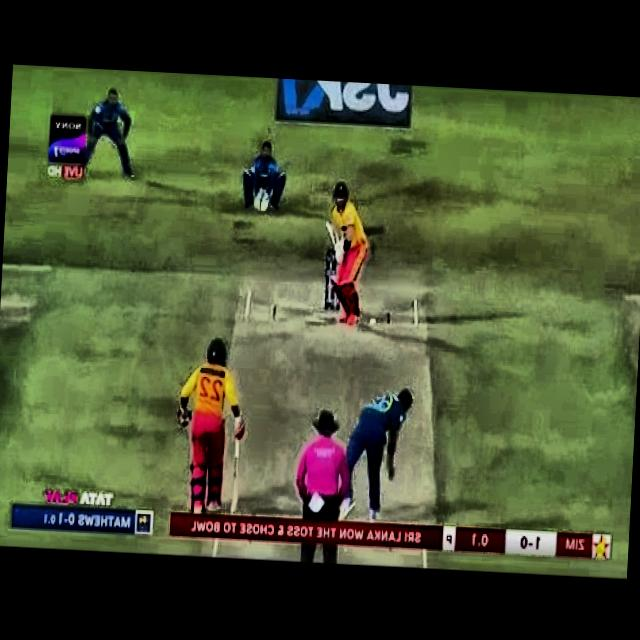Left-stump: (337, 298, 341, 308)
Middle-stump: (330, 290, 335, 310)
Right-stump: (324, 252, 330, 310)
